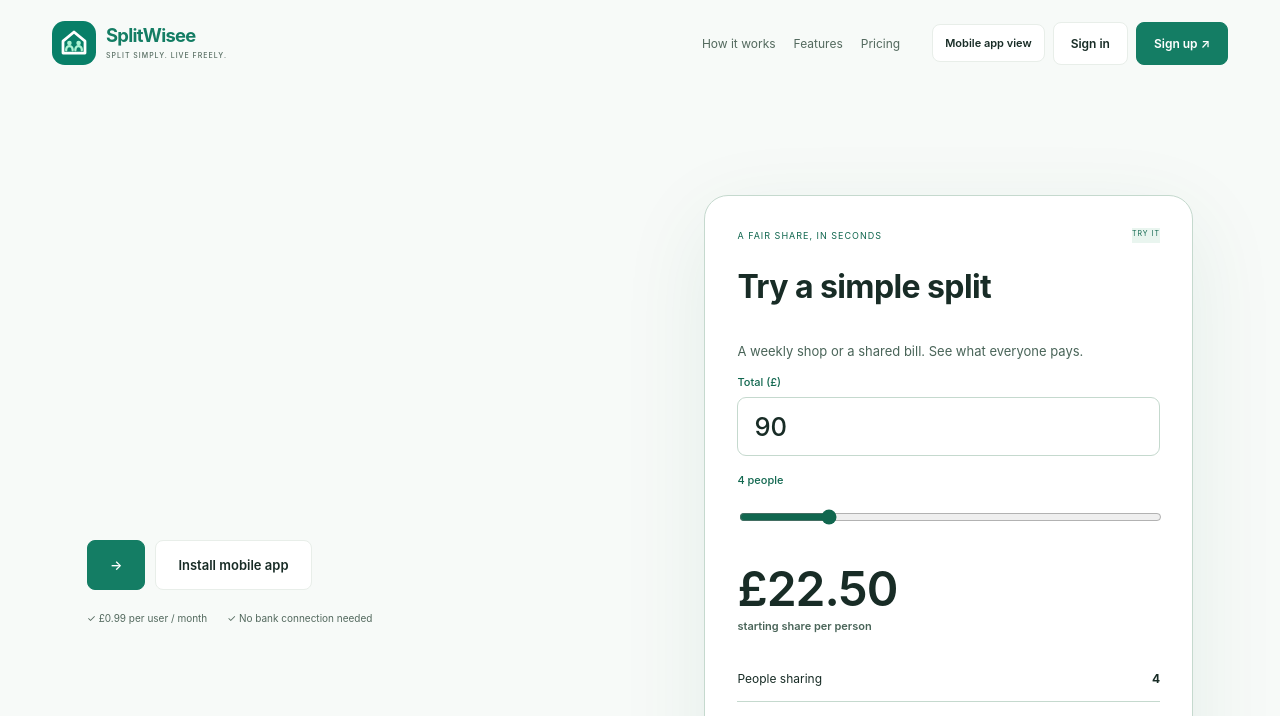
it: website › previews a fair split in whole pence
Replace the text in the field labelled "Total (£)" with "10": (949, 427) [737,397,1160,456]
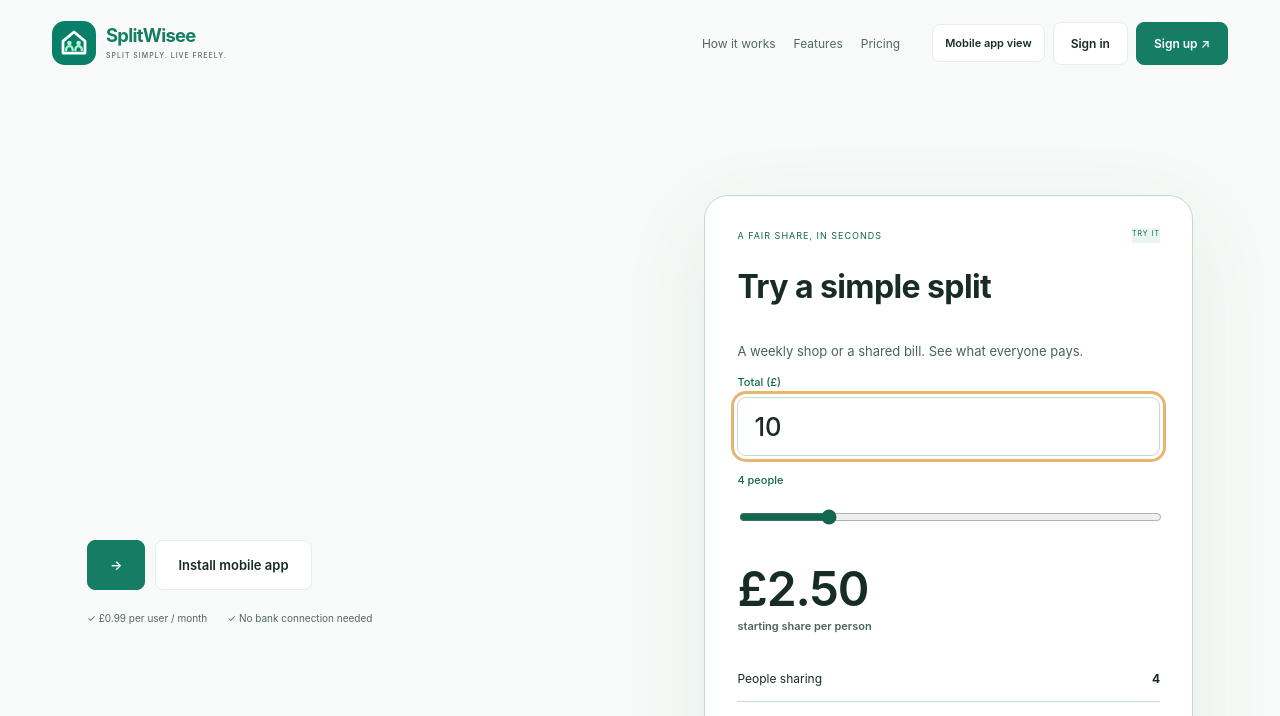
Set the slider labelled "4 people" to "3": (788, 517) [739,497,1162,537]
(page scrolled)
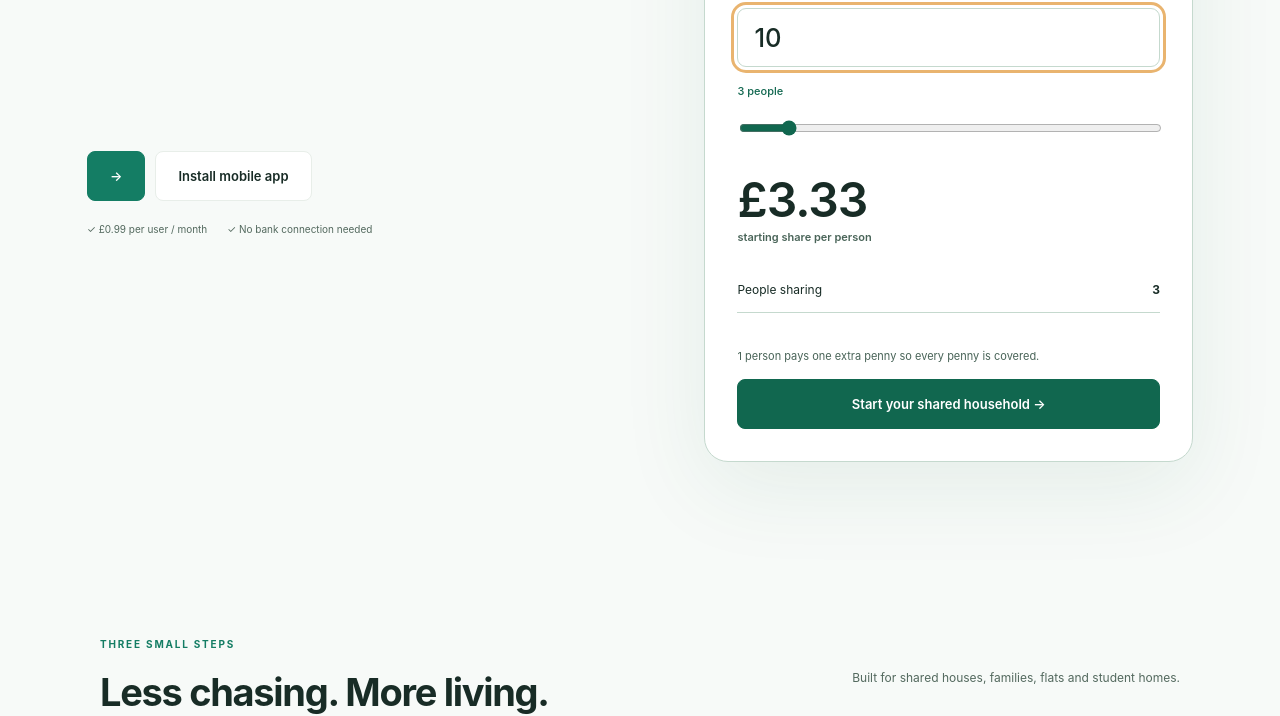
Now the text "£3.33" is shown, box [737,170,867,229]
Now the text "1 person pays one extra penny so every penny is covered." is shown, box [737,349,1039,363]
